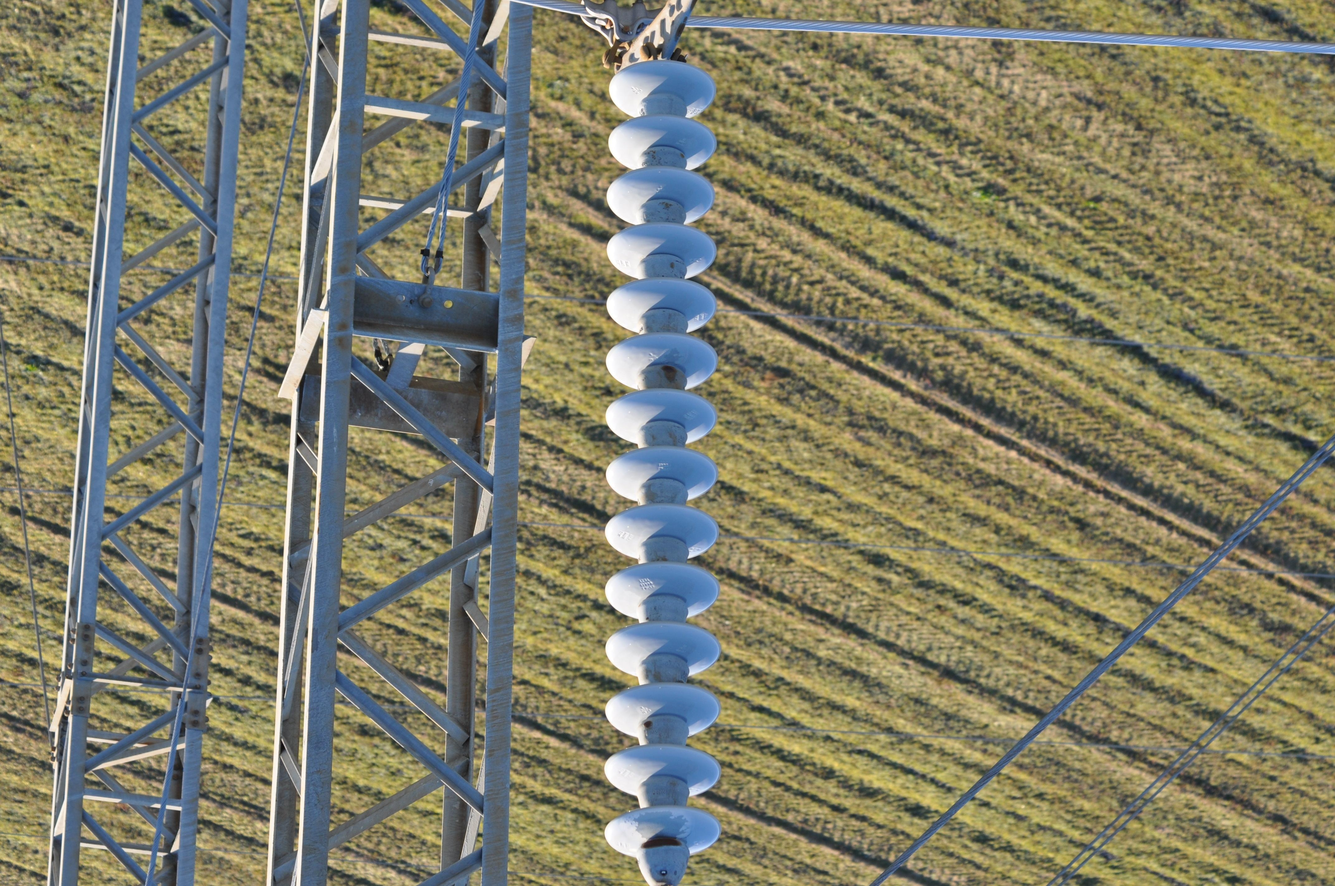Flashover: (633, 808, 692, 850), (655, 342, 696, 376)
insulator: (602, 58, 722, 860)
